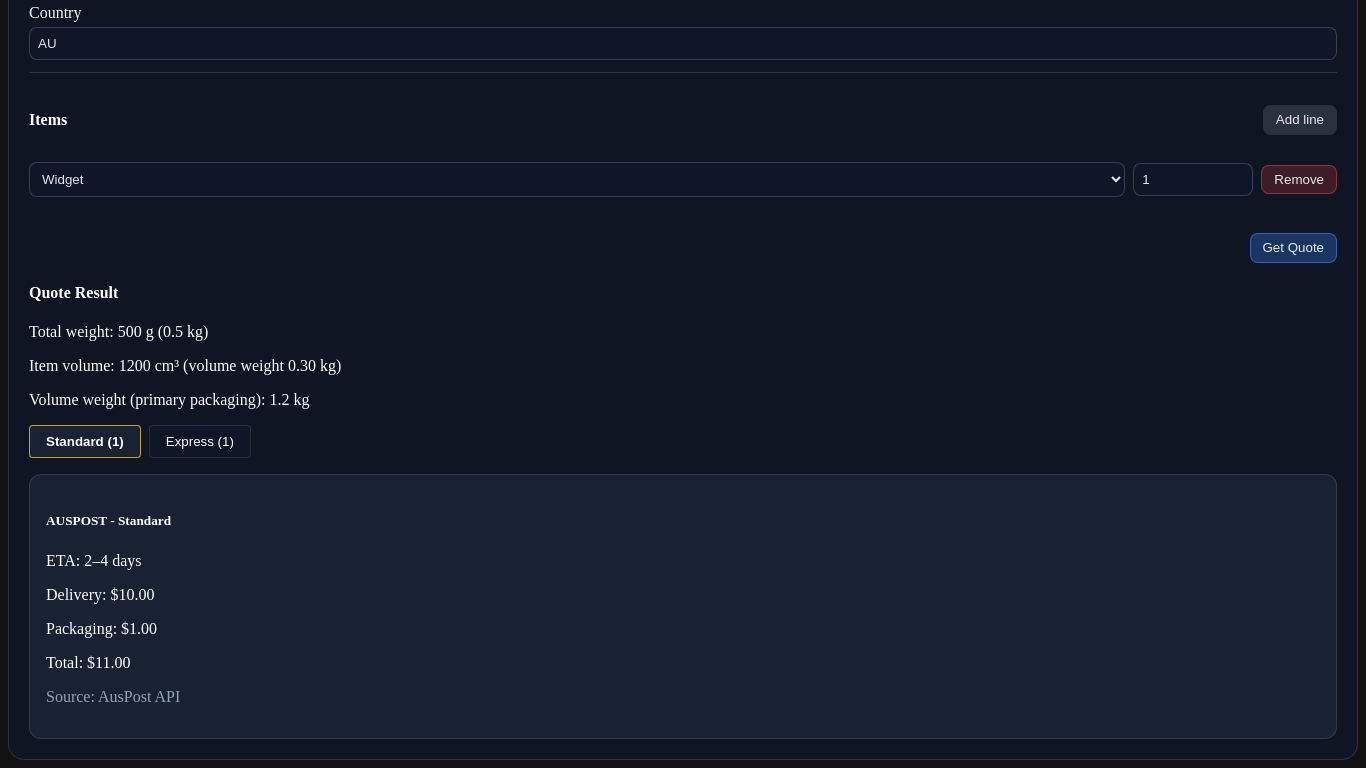
QuotePanel › renders quote results with formatted fields
(page scrolled)
Step 1. Click the button with class "tab-btn" showing "Express (1)" → (200, 442), box [149,425,251,458]
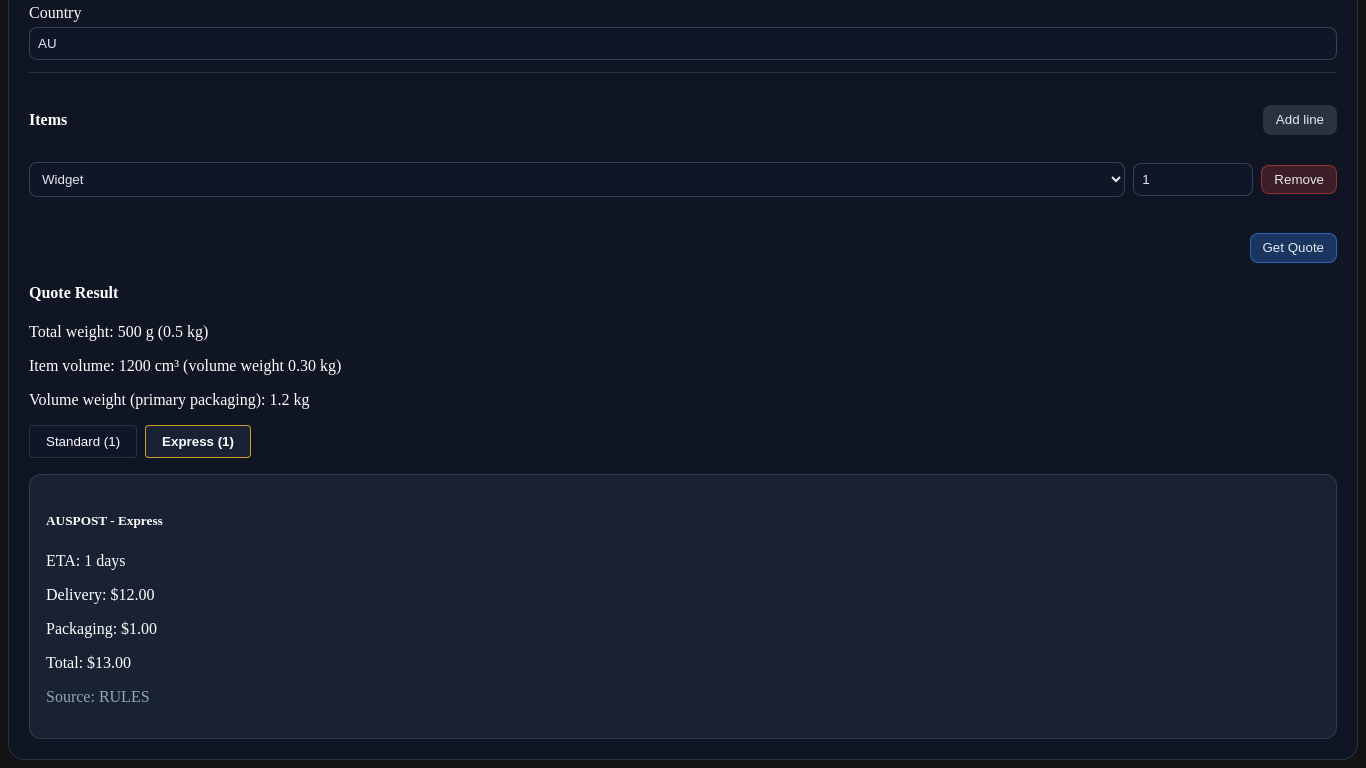
Expected: the text "Source: RULES" is shown, [46,688,150,705]
Expected: the text "ETA: 1 days" is shown, [46,552,126,569]
